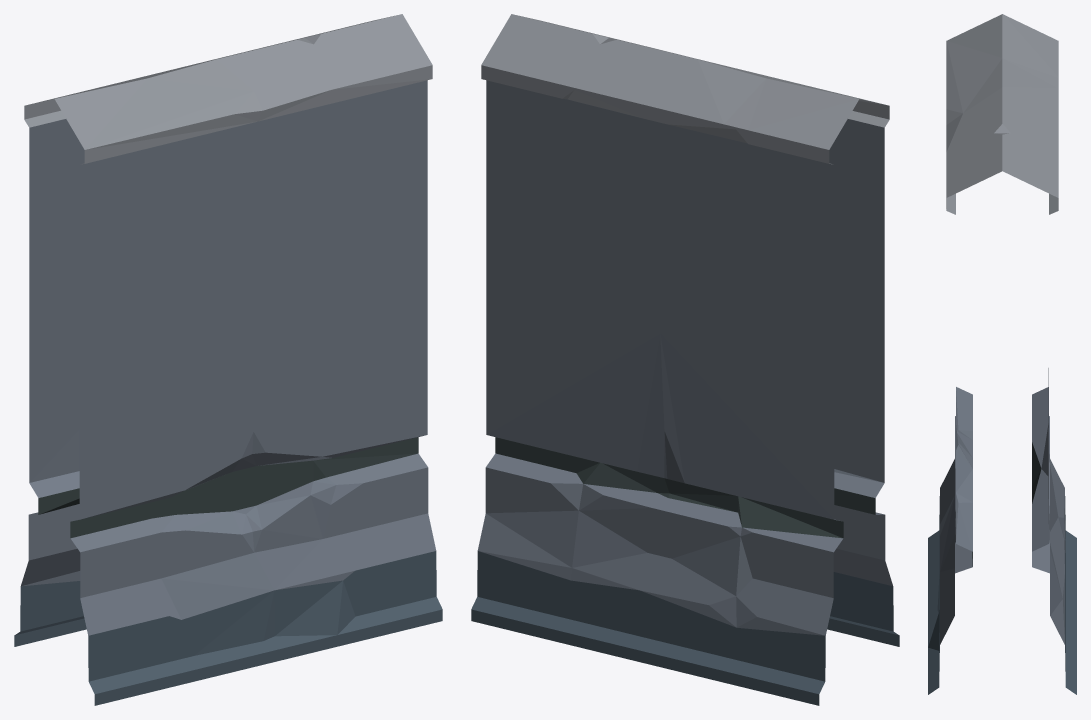
Rendered from WallSmall1.fbx.
3 renders of one model, left to right at view 1: azimuth 30°, elevation 25°; view 2: azimuth 150°, elevation 25°; view 3: azimuth 270°, elevation 25°, orthographic. The views are drawn at different scales.
Parts seen in each view (by area): view 1: WallSmall1; view 2: WallSmall1; view 3: WallSmall1.
Part boxes in pixels (x1,y1,x2,y2): WallSmall1: (14,14,442,705); WallSmall1: (471,14,899,705); WallSmall1: (928,14,1076,694).
Size of the model in its own units: 300 by 476 by 120.
